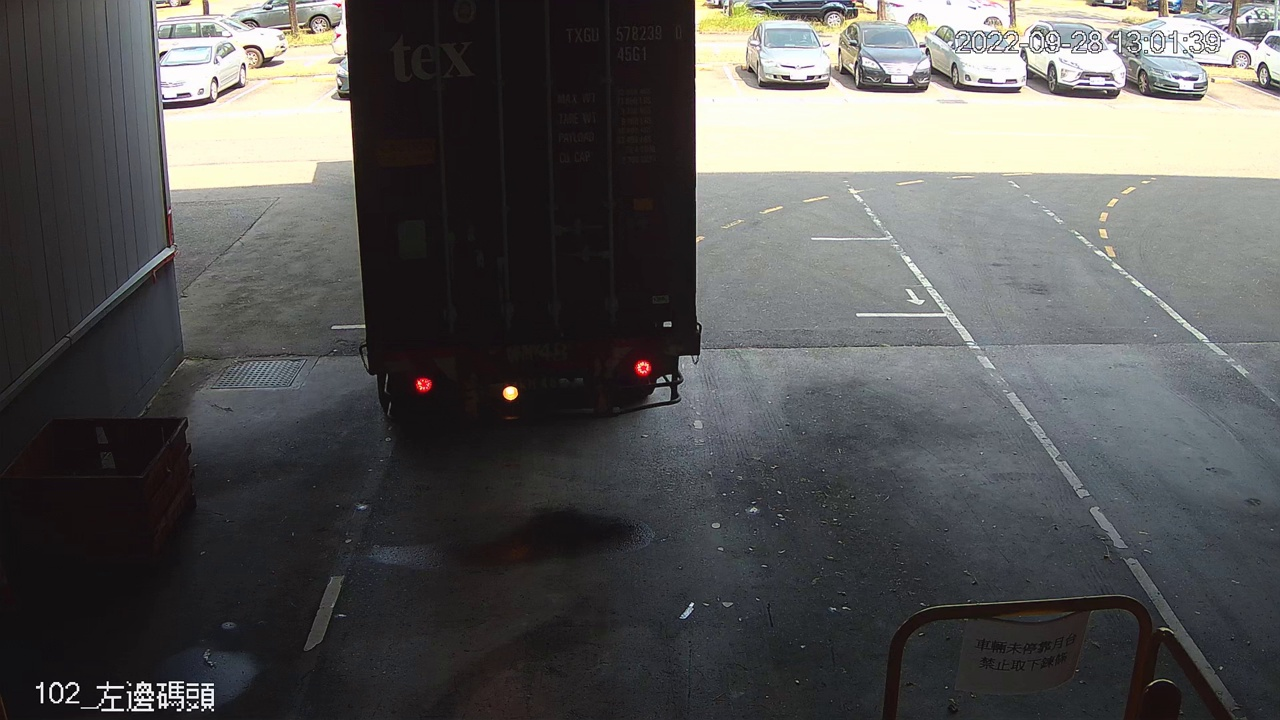container: (559, 19, 690, 67)
